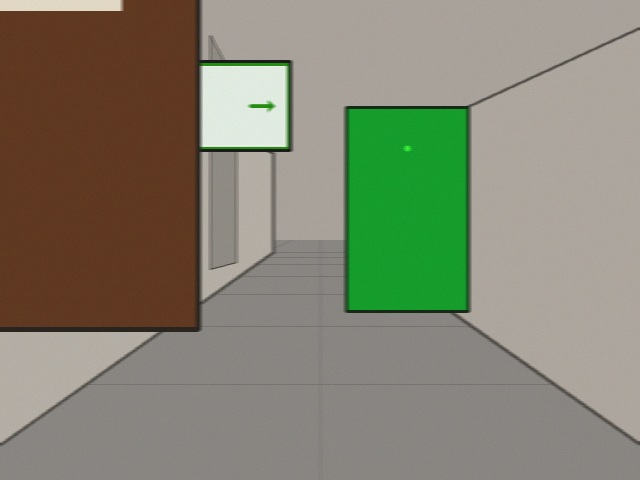charging_station: (346, 107, 468, 311), (396, 168, 461, 278)
directional_sign: (112, 61, 290, 150)
door: (0, 0, 198, 329)
